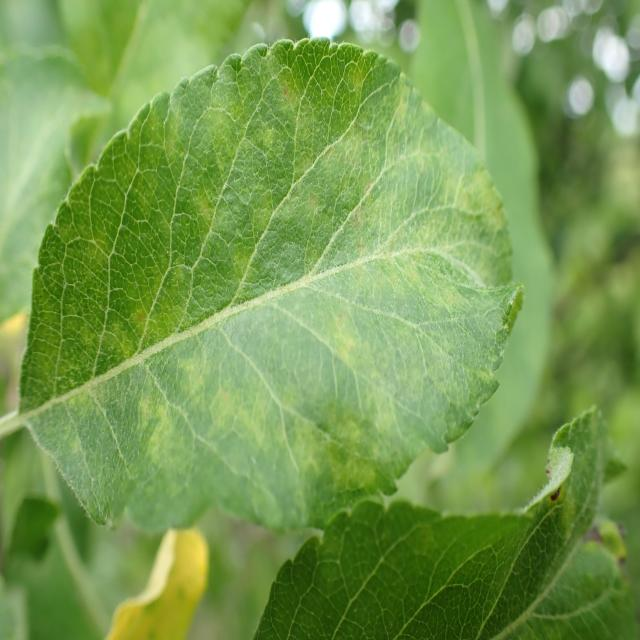scab: (38, 71, 509, 491)
